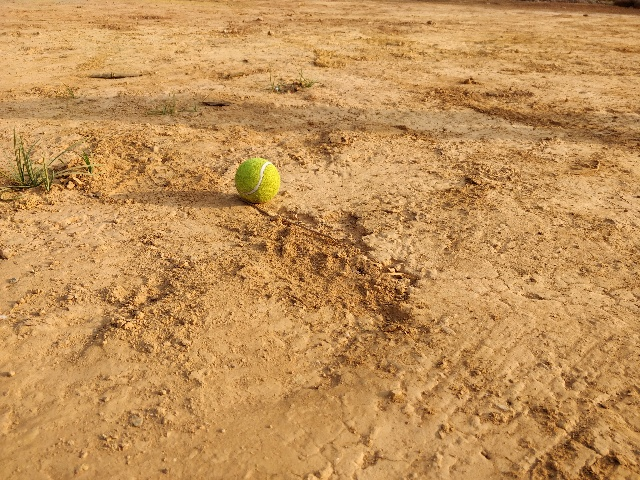ball: (234, 156, 283, 206)
